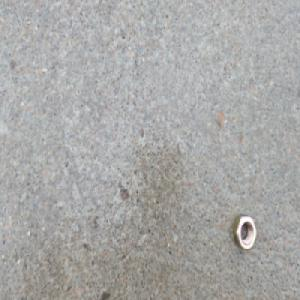Nut: (231, 211, 256, 250)
